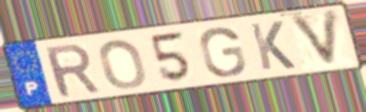5: (146, 31, 194, 85)
G: (197, 26, 248, 79)
K: (247, 19, 298, 72)
O: (97, 38, 149, 91)
R: (41, 42, 104, 101)
V: (287, 7, 342, 71)
